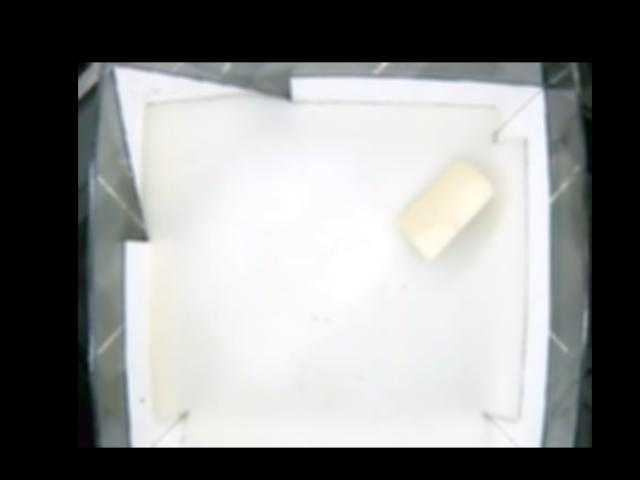Mooli: (394, 160, 493, 263)
